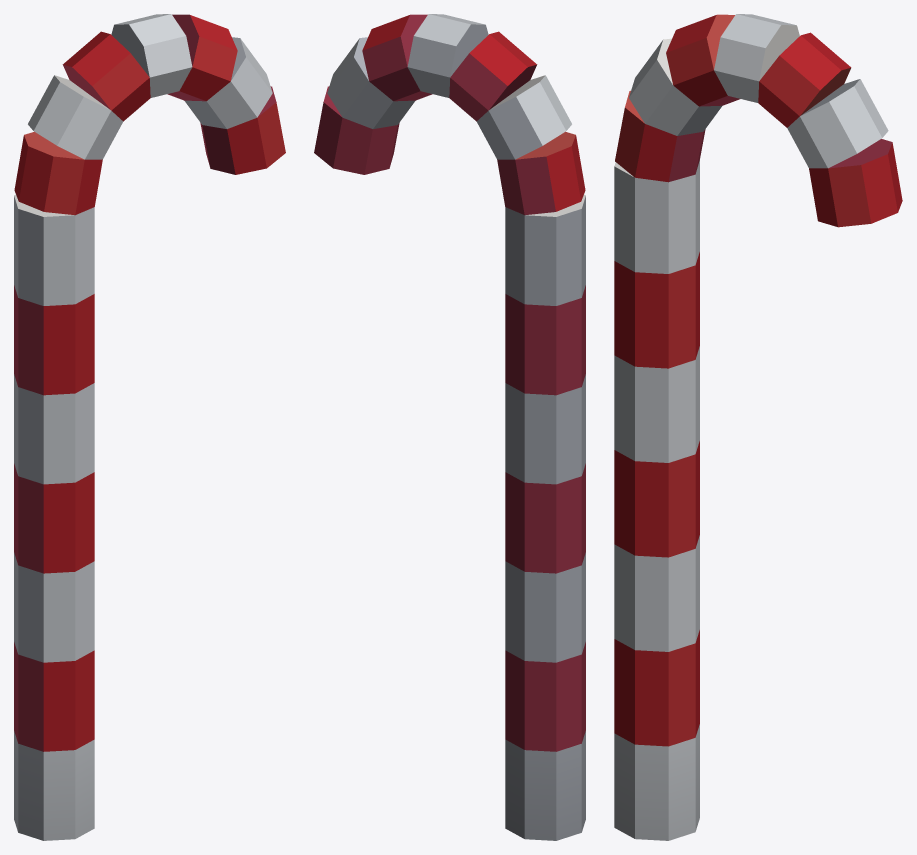
The model's file is CandyCane.fbx.
3 renders of one model, left to right at view 1: azimuth 30°, elevation 25°; view 2: azimuth 150°, elevation 25°; view 3: azimuth 330°, elevation 25°, orthographic. The views are drawn at different scales.
Visible parts, largest first — view 1: SM_Xmas_CandyCane; view 2: SM_Xmas_CandyCane; view 3: SM_Xmas_CandyCane.
Boxes of the visible parts, x1=… form: SM_Xmas_CandyCane: x1=14, y1=14, x2=285, y2=840; SM_Xmas_CandyCane: x1=314, y1=14, x2=585, y2=840; SM_Xmas_CandyCane: x1=614, y1=14, x2=902, y2=840.
Size of the model in its own units: 1.24 by 3.51 by 0.34.
